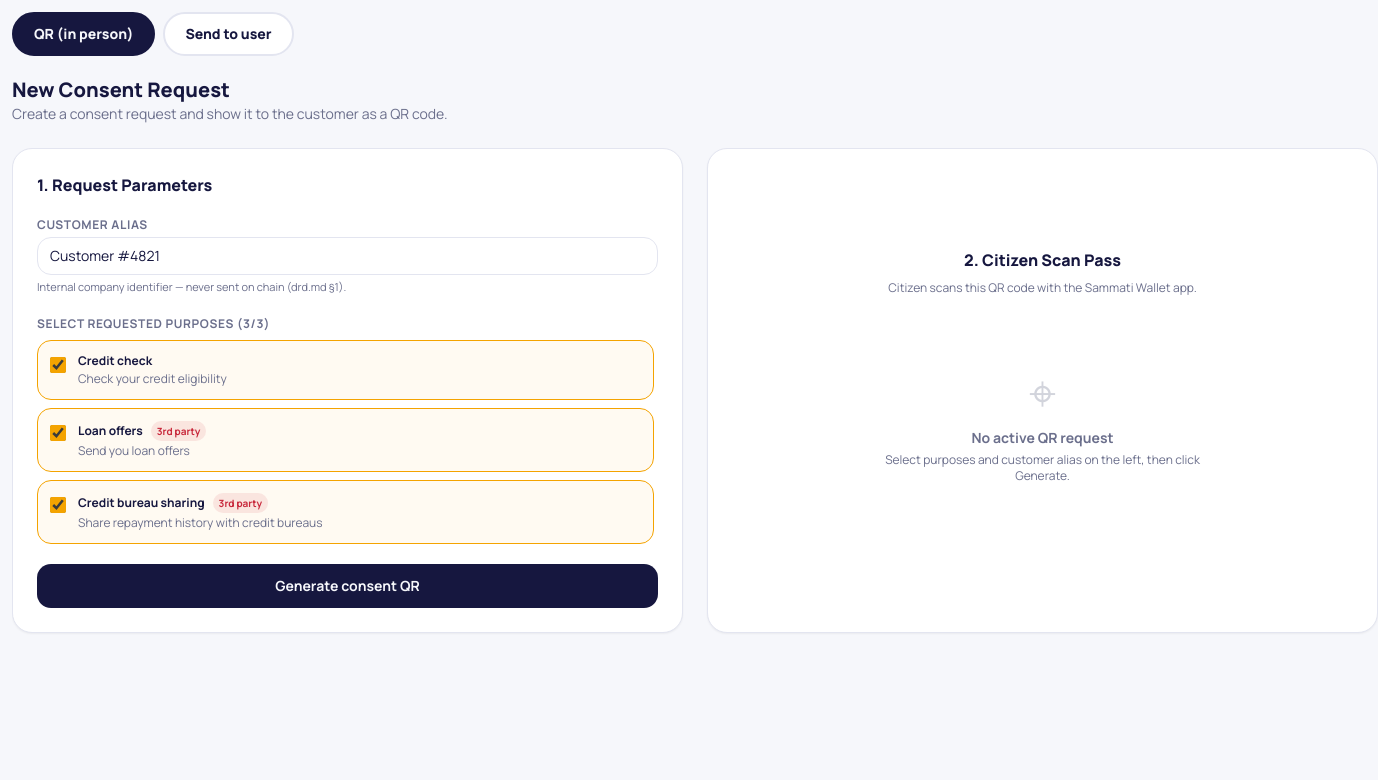
Test: the tabs › keep the QR for in-person use and add Send to user
Check: the heading "New Consent Request" is shown, box left=12, top=76, right=230, bottom=103
Click the tab "Send to user" at (228, 34), box left=163, top=12, right=294, bottom=56
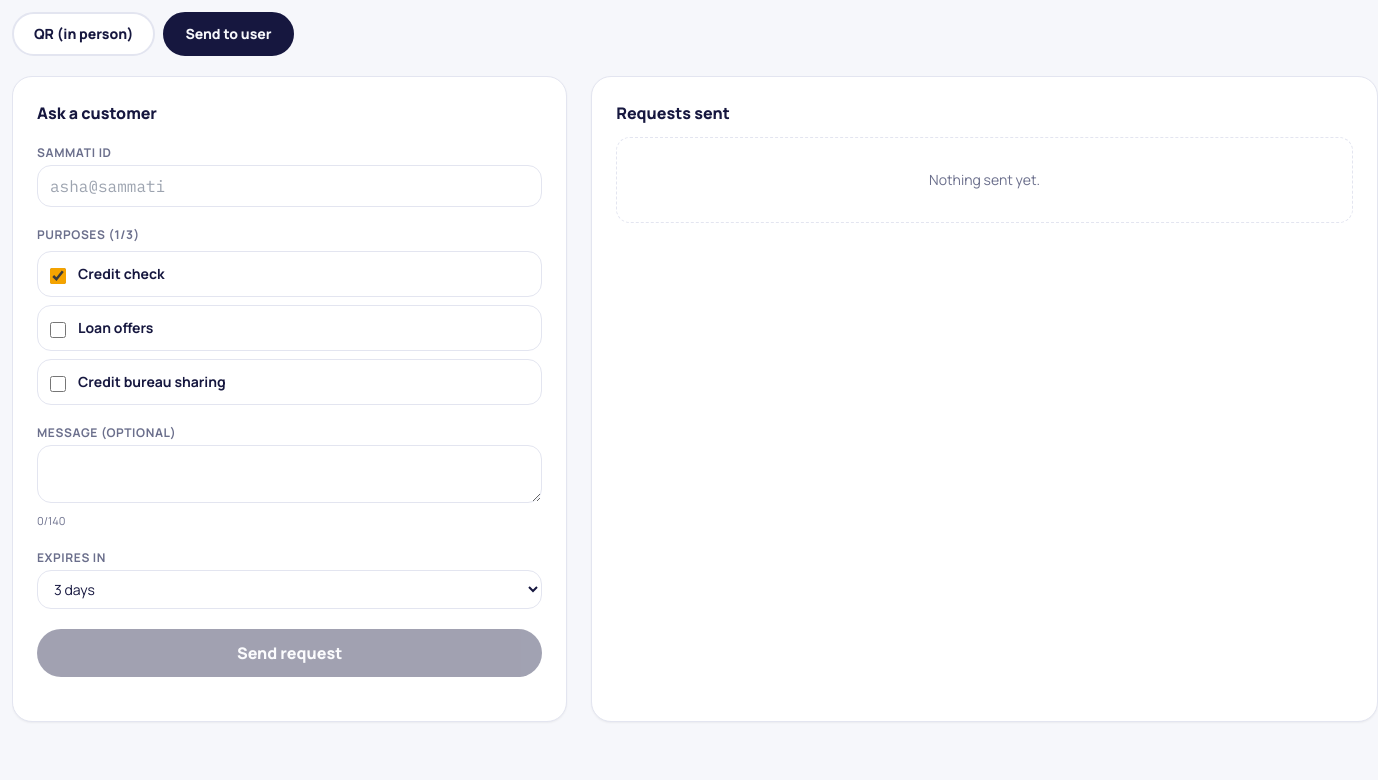
Check: the field labelled "Sammati ID" is shown, box left=37, top=165, right=542, bottom=207
Check: the heading "New Consent Request" is gone
